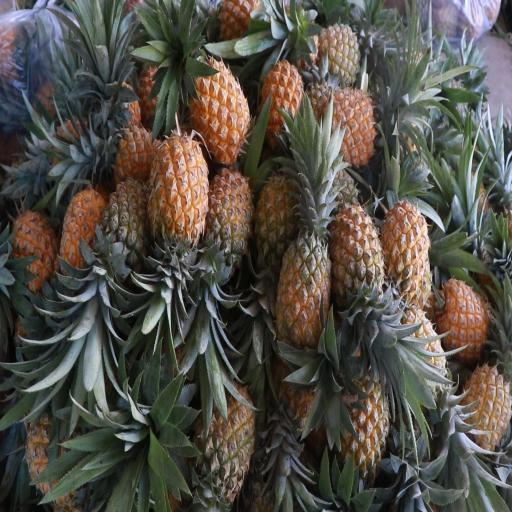------------------------------: (193, 375, 256, 512), (272, 221, 335, 350), (98, 170, 156, 274), (253, 164, 303, 280), (313, 20, 365, 90)
Pineapple - v8 v1: (146, 128, 214, 263), (188, 57, 252, 173), (328, 199, 386, 318), (378, 198, 434, 318), (202, 162, 256, 281), (313, 82, 383, 172), (333, 372, 393, 473), (6, 197, 60, 304), (259, 46, 311, 151), (60, 182, 109, 290), (459, 362, 512, 458), (436, 277, 494, 359)
